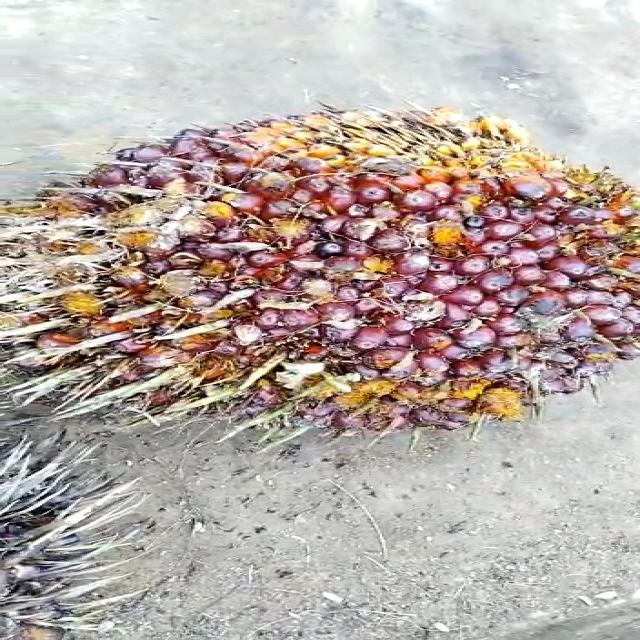palm oil: (25, 107, 640, 433)
